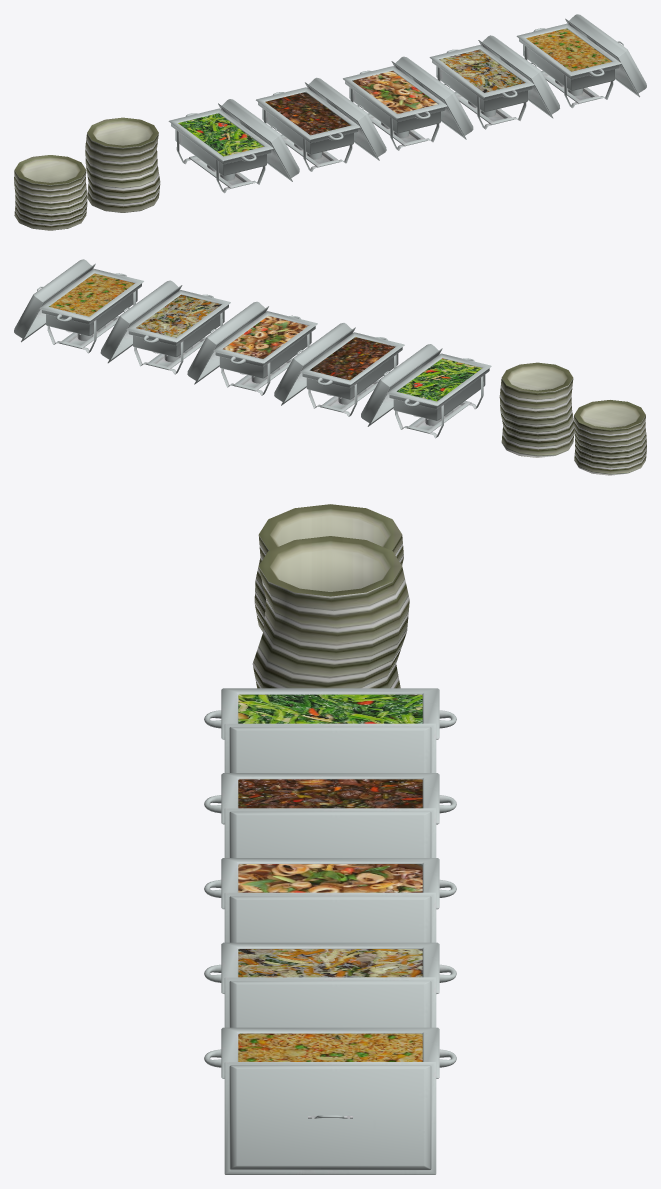
Rendered from foodwarmer.glb.
3 views of the same model, one above another, from view 1: azimuth 30°, elevation 25°; view 2: azimuth 150°, elevation 25°; view 3: azimuth 270°, elevation 25° (orthographic). The views are drawn at different scales.
Parts seen in each view (by area): view 1: Stack of Plate, Stack of Plate 2, Food Warmer 5, Food Warmer 2, Food Warmer, Food Warmer 3, Food Warmer 4, Capjay, Nasi Goreng, Cumi Kuah, Semur Daging, Cah Kangkung (+5 smaller); view 2: Stack of Plate, Stack of Plate 2, Food Warmer 5, Food Warmer 3, Food Warmer, Food Warmer 4, Food Warmer 2, Nasi Goreng, Capjay, Cumi Kuah, Semur Daging, Cah Kangkung (+5 smaller); view 3: Food Warmer Lid, Stack of Plate, Food Warmer Lid 2, Food Warmer Lid 3, Food Warmer Lid 4, Food Warmer Lid 5, Semur Daging, Cah Kangkung, Capjay, Cumi Kuah, Nasi Goreng, Stack of Plate 2 (+5 smaller).
Part boxes in pixels (box(x1,y1,x2,y2)): Stack of Plate: box(85, 117, 160, 212); Stack of Plate 2: box(14, 155, 87, 230); Food Warmer 5: box(168, 108, 273, 193); Food Warmer 2: box(429, 45, 534, 129); Food Warmer: box(516, 23, 621, 108); Food Warmer 3: box(343, 66, 447, 150); Food Warmer 4: box(256, 87, 360, 171); Capjay: box(439, 49, 524, 92); Nasi Goreng: box(526, 28, 611, 71); Cumi Kuah: box(352, 71, 437, 113); Semur Daging: box(265, 92, 350, 135); Cah Kangkung: box(178, 113, 263, 156); Stack of Plate: box(499, 362, 574, 457); Stack of Plate 2: box(573, 400, 646, 475); Food Warmer 5: box(387, 353, 491, 438); Food Warmer 3: box(213, 311, 317, 395); Food Warmer: box(39, 268, 143, 353); Food Warmer 4: box(300, 332, 404, 416); Food Warmer 2: box(126, 290, 230, 374); Nasi Goreng: box(49, 273, 134, 316); Capjay: box(136, 294, 221, 337); Cumi Kuah: box(223, 316, 308, 358); Semur Daging: box(309, 337, 394, 380); Cah Kangkung: box(397, 358, 482, 401); Food Warmer Lid: box(224, 1062, 436, 1174); Stack of Plate: box(252, 536, 409, 688); Food Warmer Lid 2: box(224, 977, 436, 1027); Food Warmer Lid 3: box(224, 892, 436, 942); Food Warmer Lid 4: box(224, 808, 436, 857); Food Warmer Lid 5: box(224, 723, 436, 772); Semur Daging: box(238, 779, 422, 808); Cah Kangkung: box(238, 694, 422, 723); Capjay: box(238, 949, 422, 977); Cumi Kuah: box(238, 864, 422, 892); Nasi Goreng: box(238, 1033, 422, 1061); Stack of Plate 2: box(254, 504, 403, 631).
Size of the model in its own units: 5.82 by 0.6 by 1.06.
7 materials, 7 textured.
